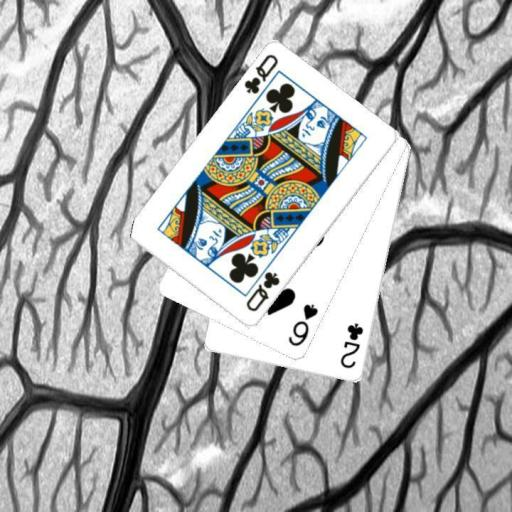card-corner: (242, 268, 282, 314), (241, 51, 280, 97), (285, 301, 320, 348), (337, 320, 366, 370)
